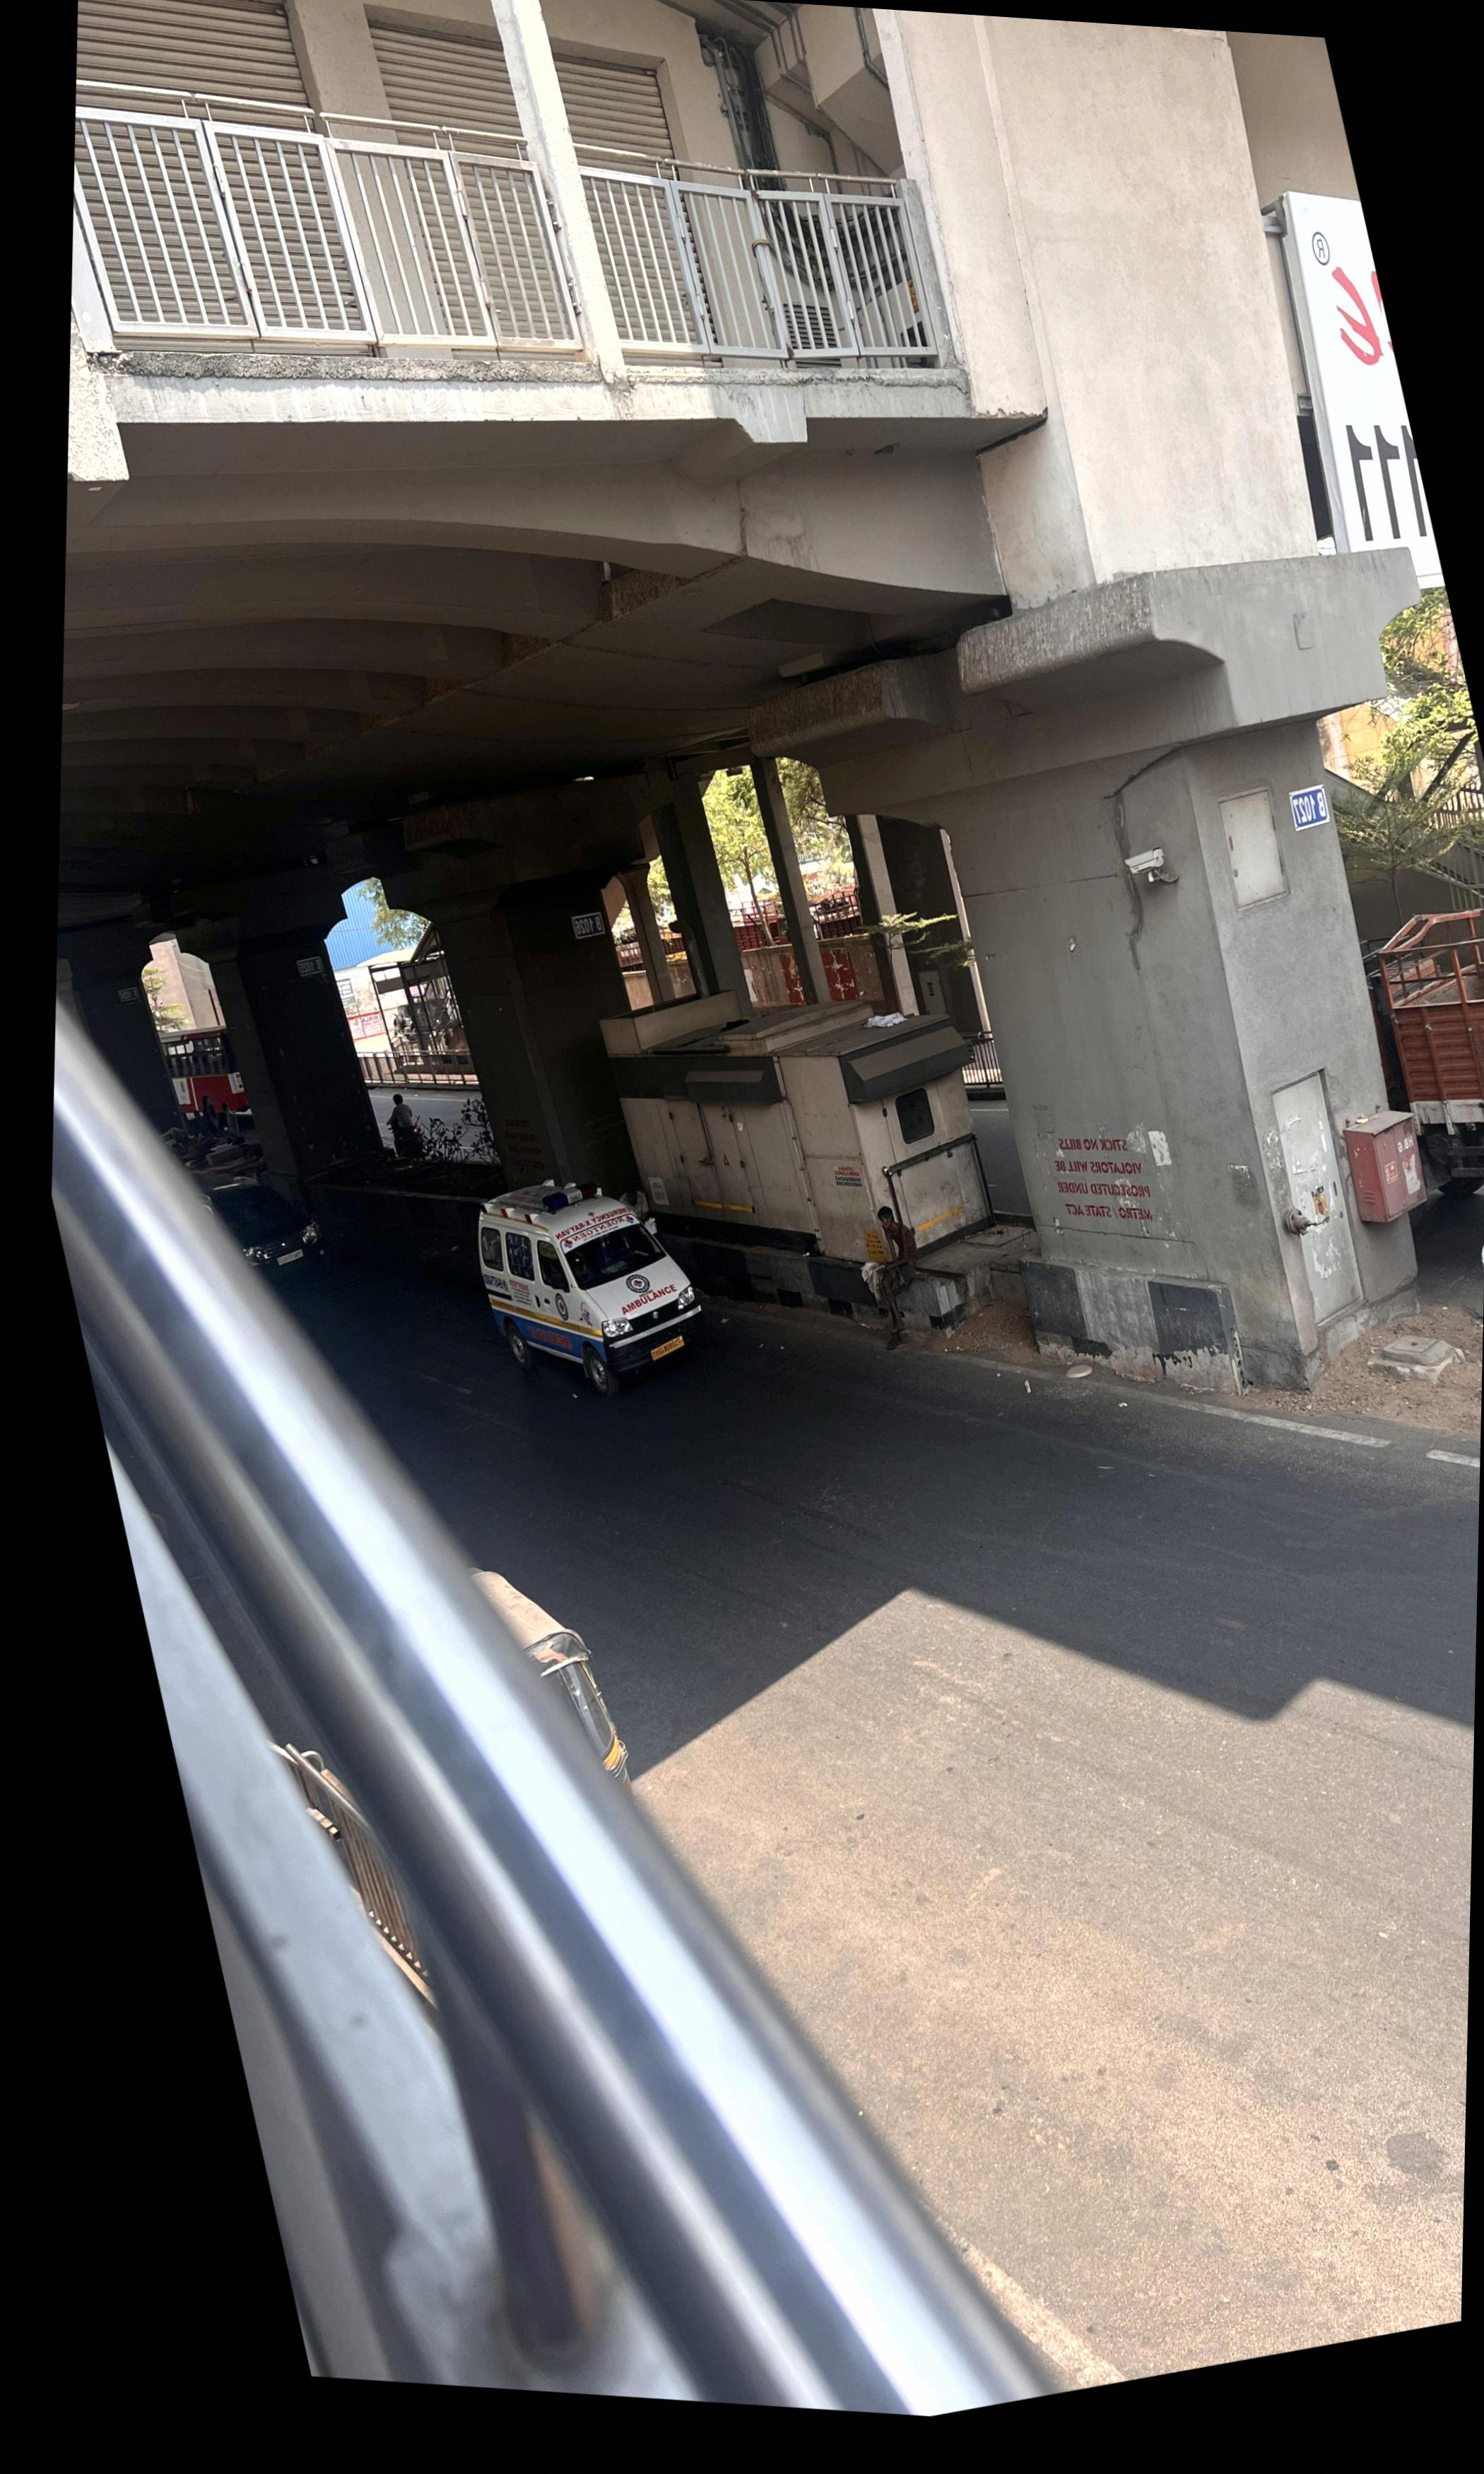ambulance: (468, 1182, 703, 1403)
